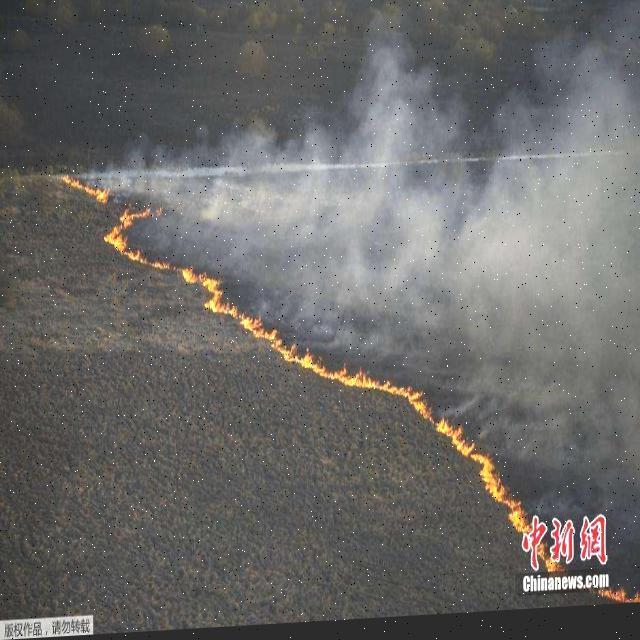Fire: (108, 185, 568, 602), (62, 169, 108, 208), (599, 587, 635, 611)
